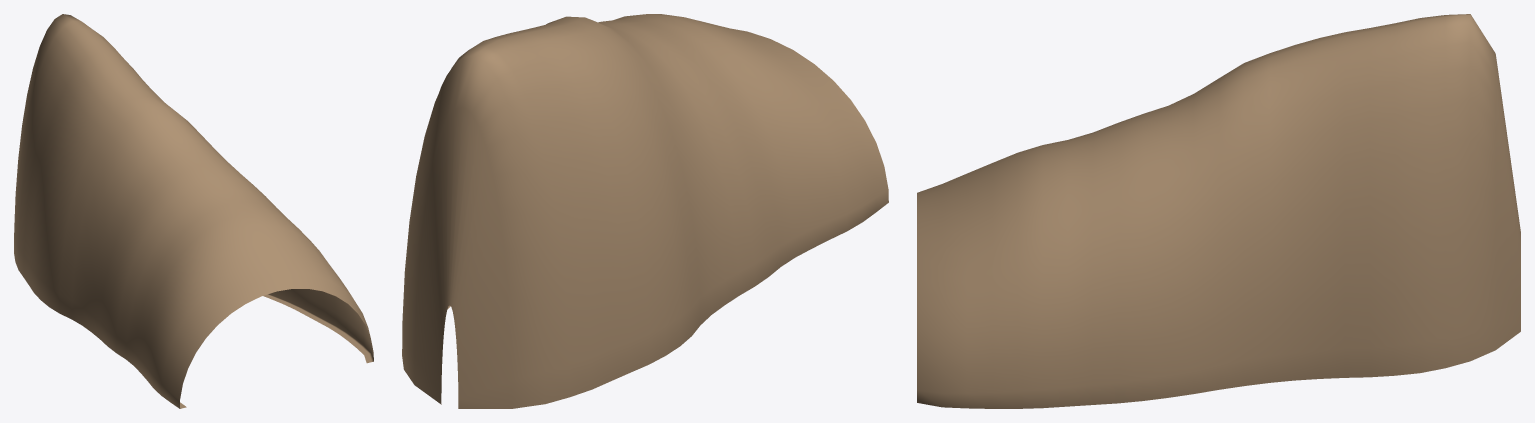
The model's file is SabatonLean_L.glb.
3 views of the same model, side by side, from view 1: azimuth 30°, elevation 25°; view 2: azimuth 150°, elevation 25°; view 3: azimuth 270°, elevation 25° (orthographic). The views are drawn at different scales.
Visible parts, largest first — view 1: SabatonLean_L; view 2: SabatonLean_L; view 3: SabatonLean_L.
Part boxes in pixels (x1=…): SabatonLean_L: x1=14, y1=14, x2=373, y2=408; SabatonLean_L: x1=402, y1=14, x2=888, y2=408; SabatonLean_L: x1=917, y1=14, x2=1520, y2=408.
Size of the model in its own units: 0.1287 by 0.1375 by 0.24.
